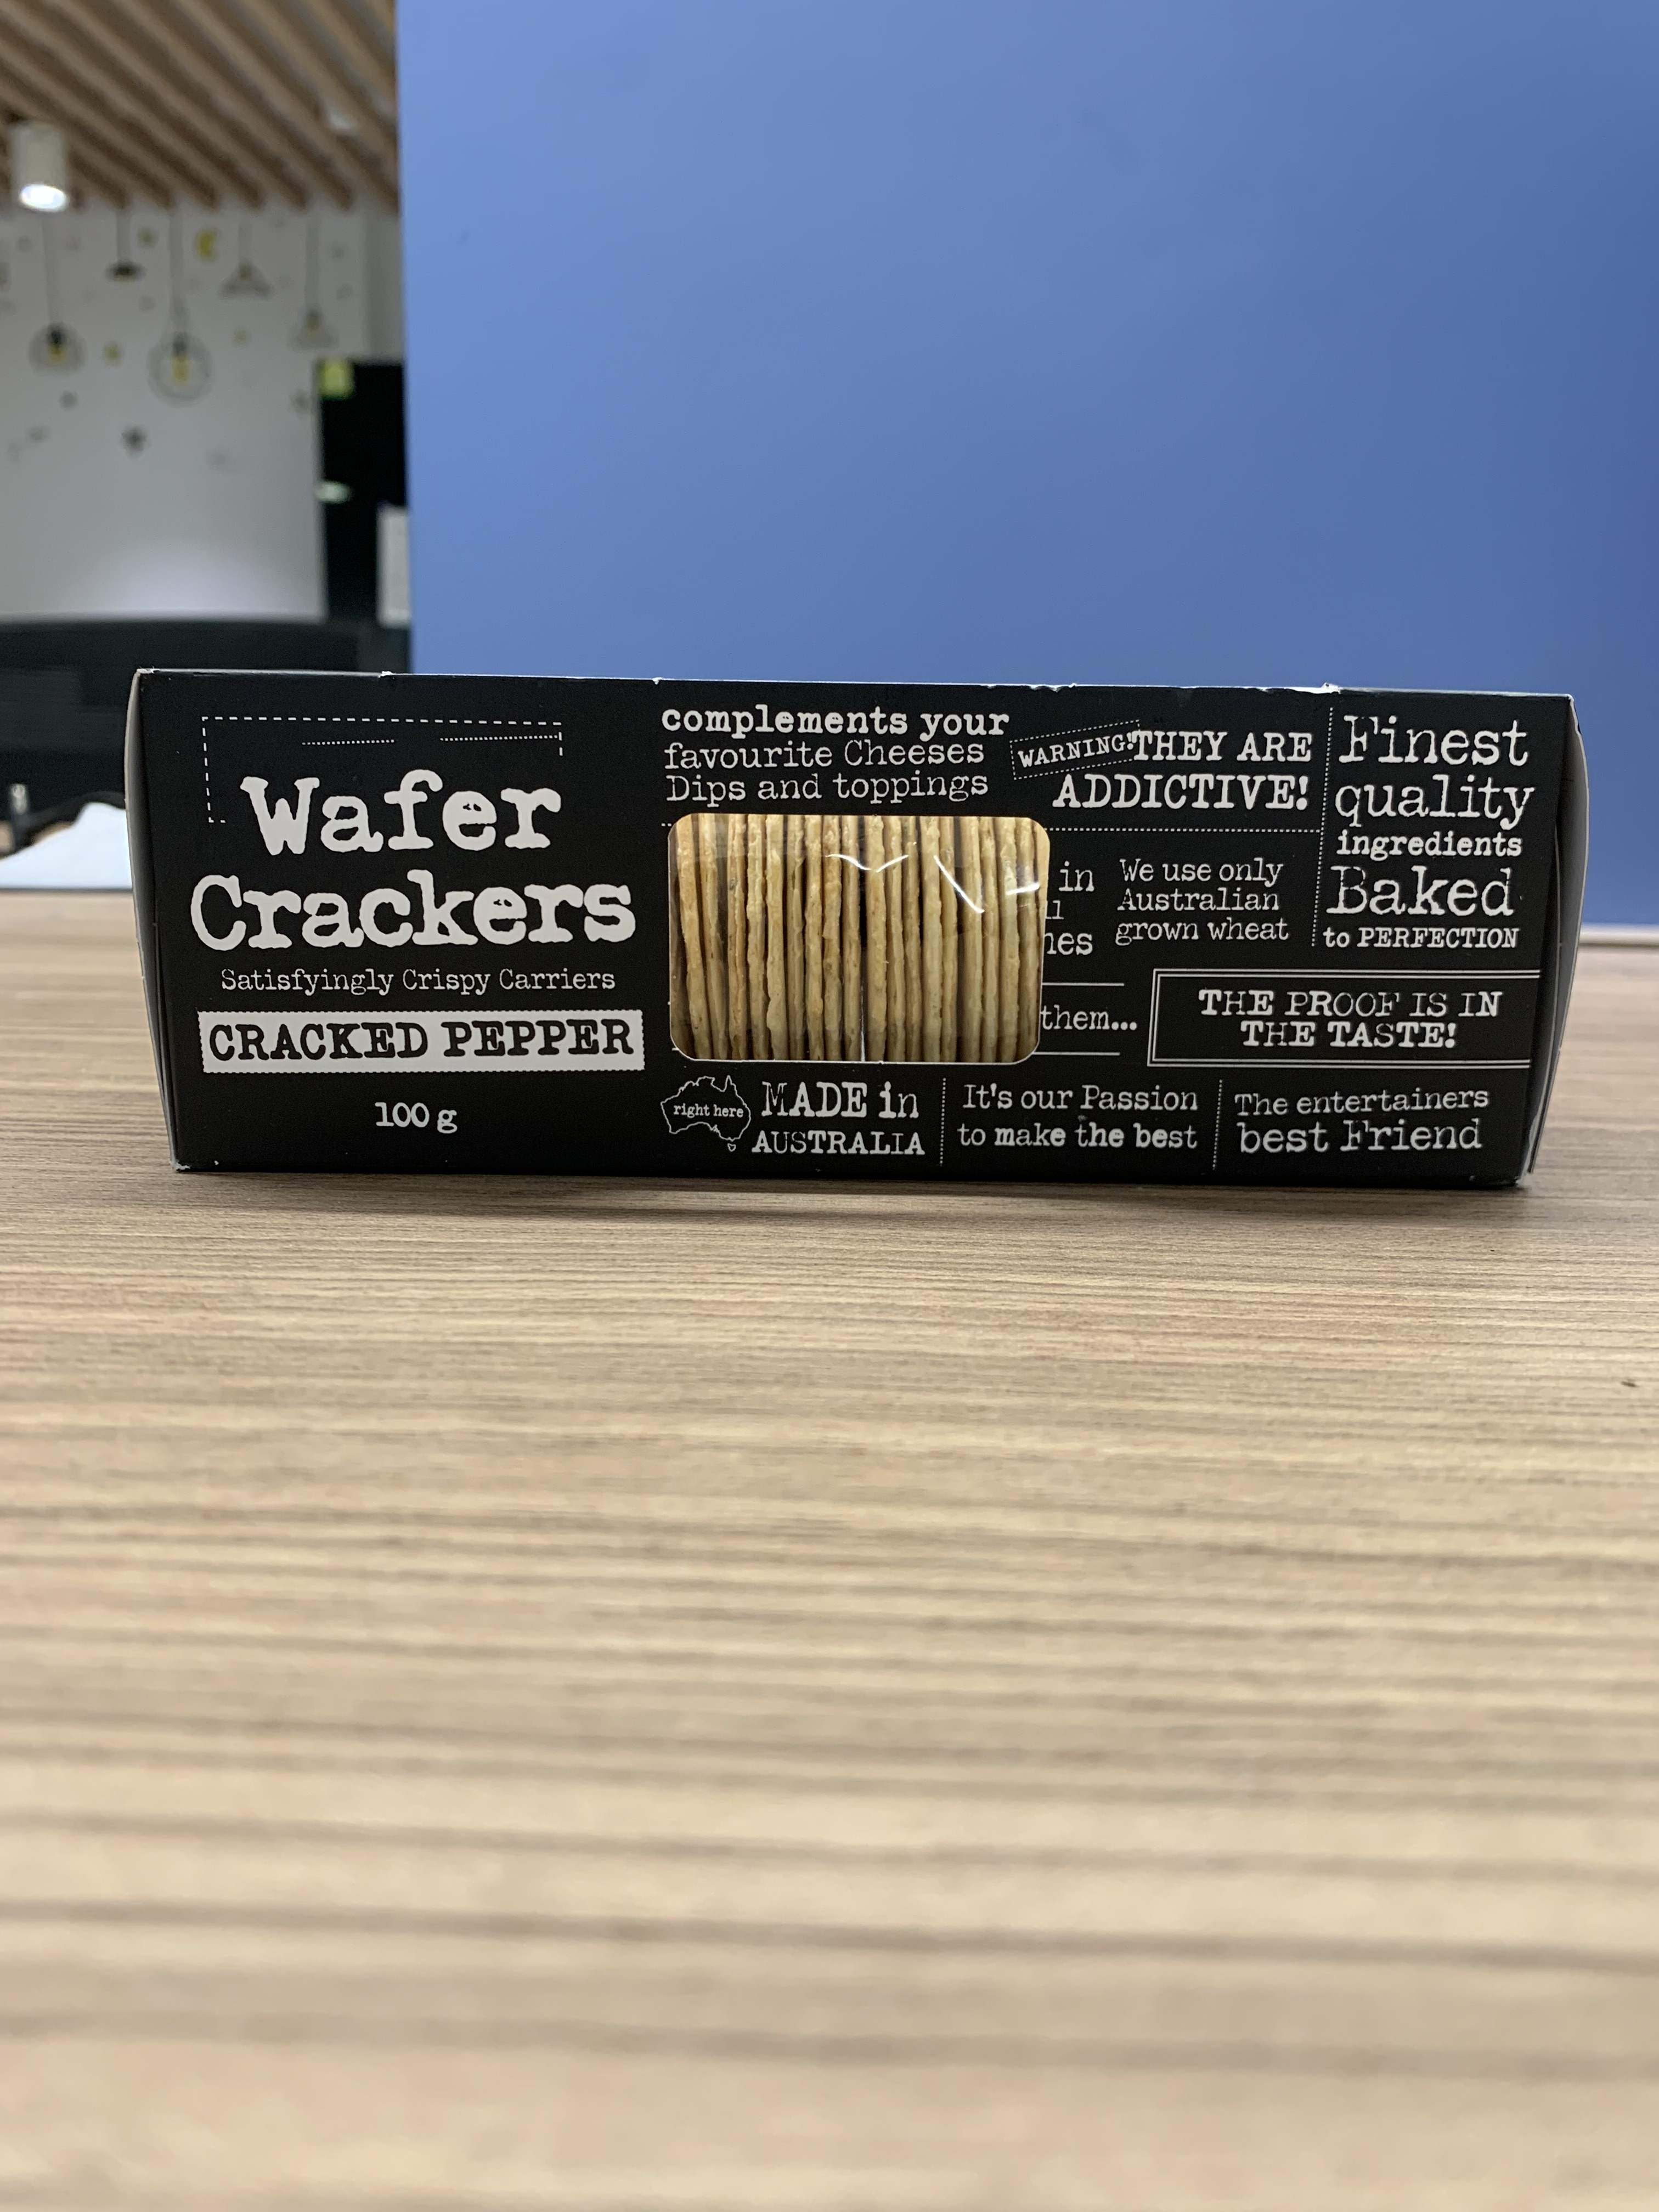crackers: (119, 674, 1607, 1188)
